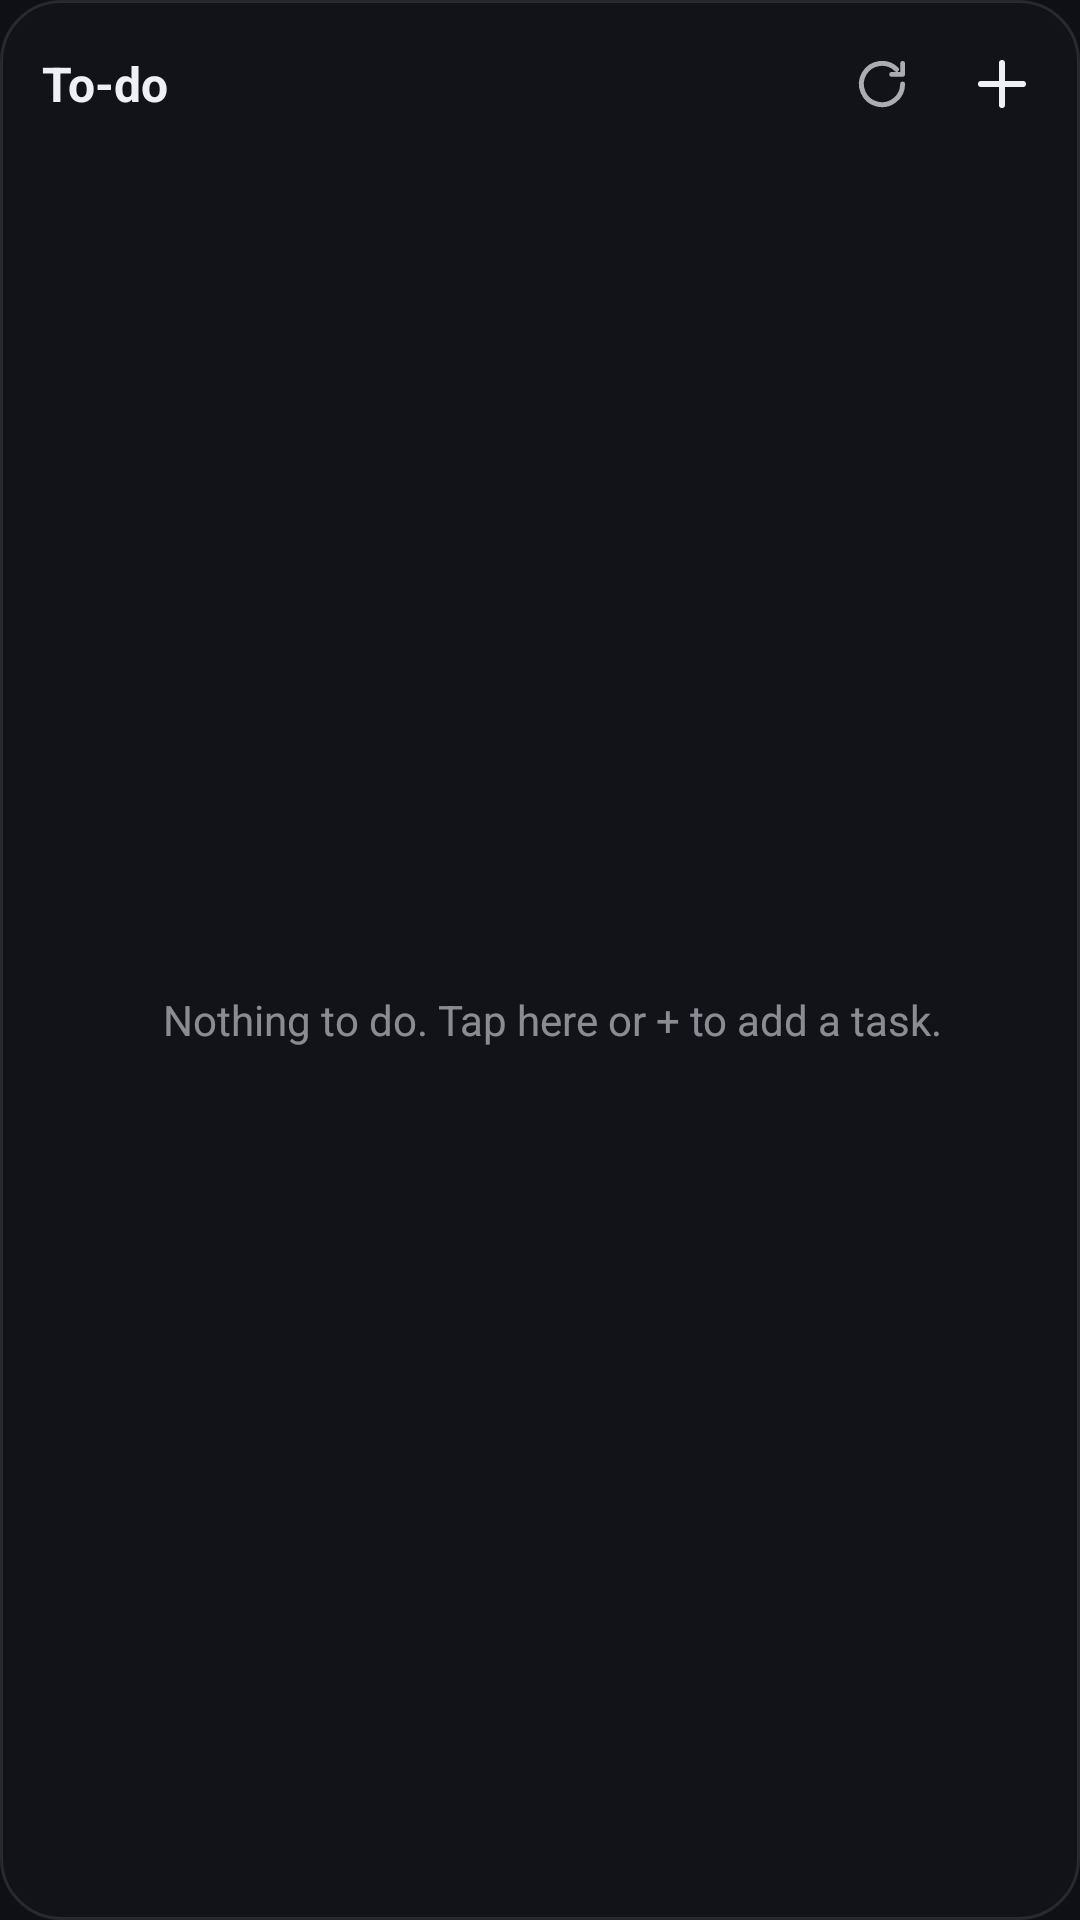

Point at icon controls on the screen. Image size 1080px×1920px, points as [x,y].
Open DeskDo to add or edit: [1002,84]
Refresh: [881,84]
